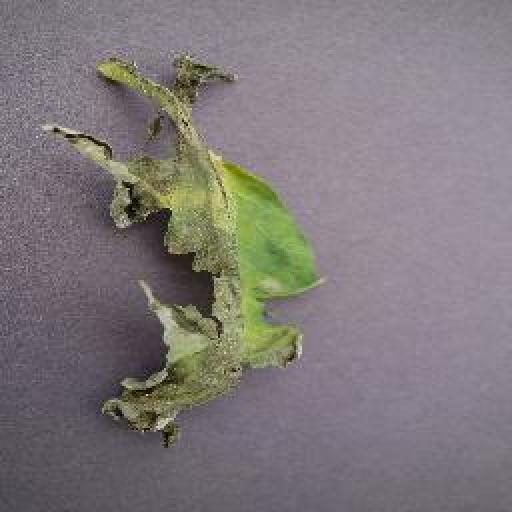disease_tomato: (45, 56, 324, 449)
